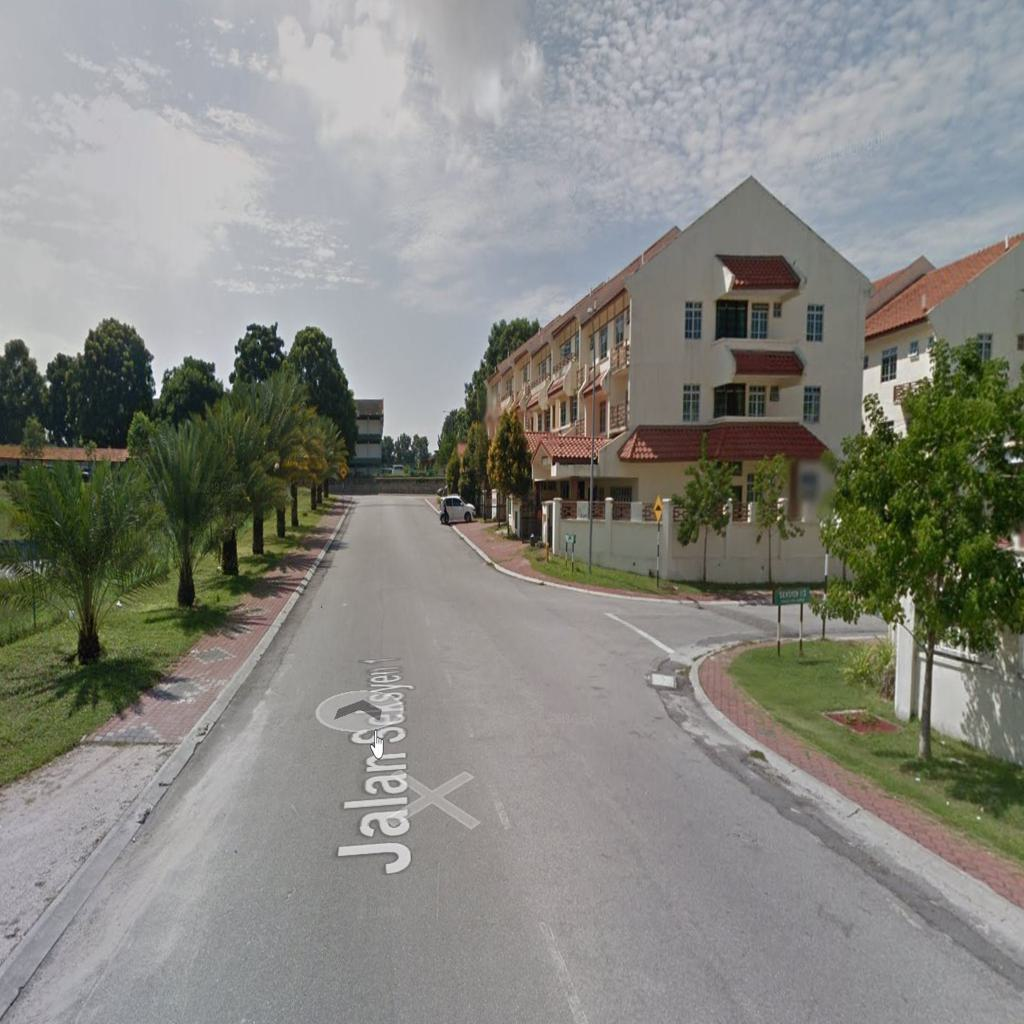Junction: (495, 550, 832, 723)
